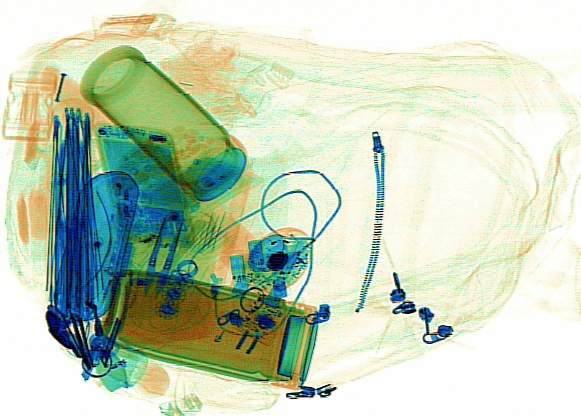scissors: (140, 213, 183, 298)
